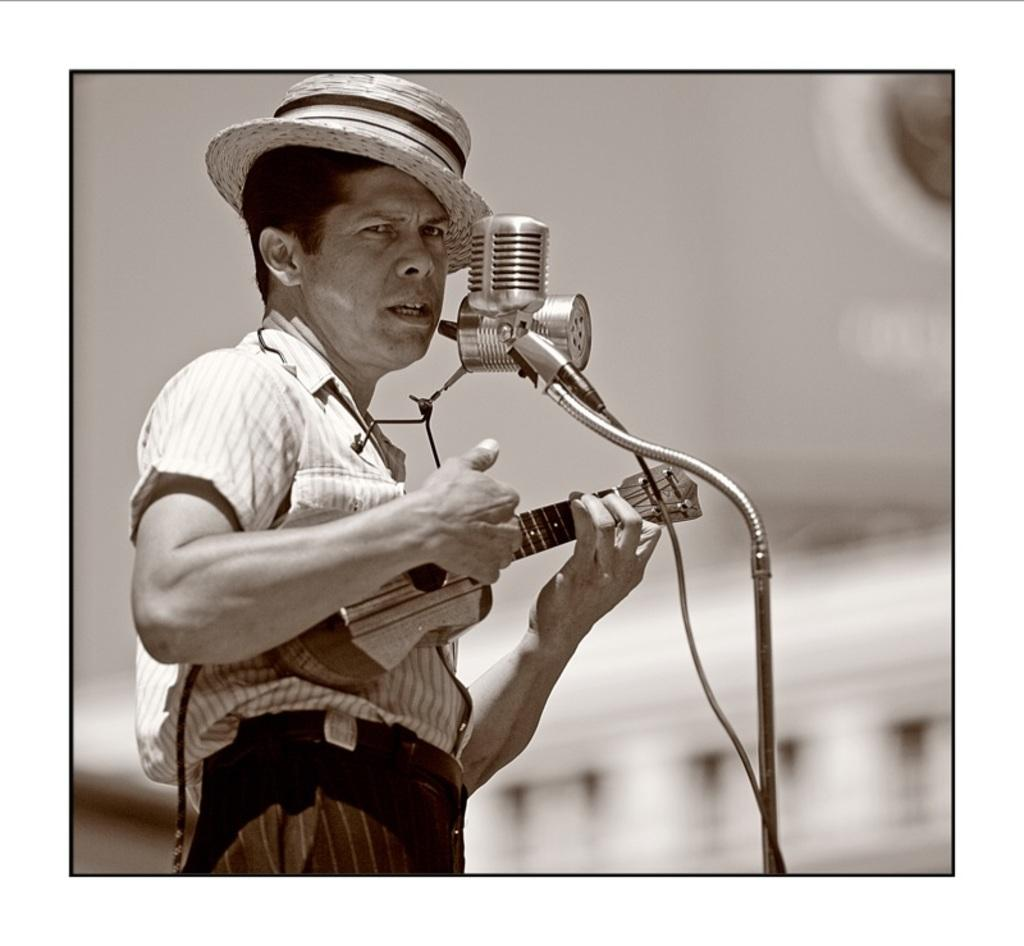Hat: (206, 71, 490, 274)
